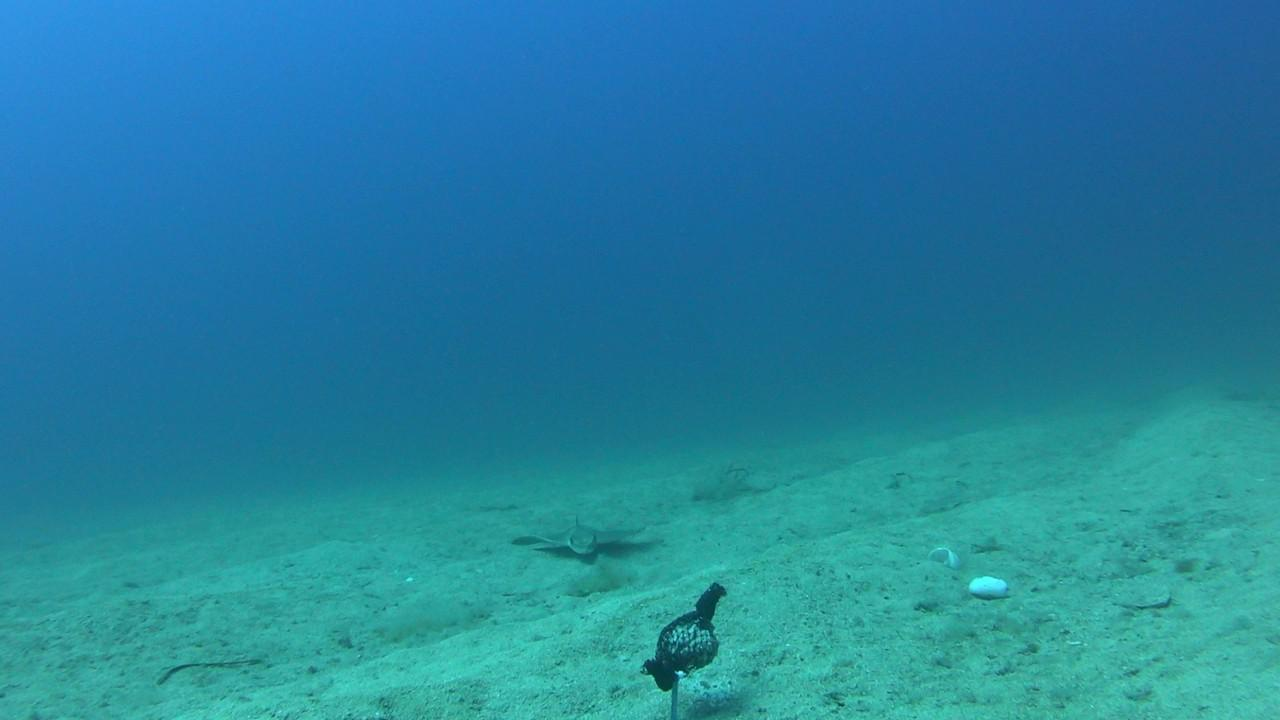myliobatis: (496, 494, 683, 574)
